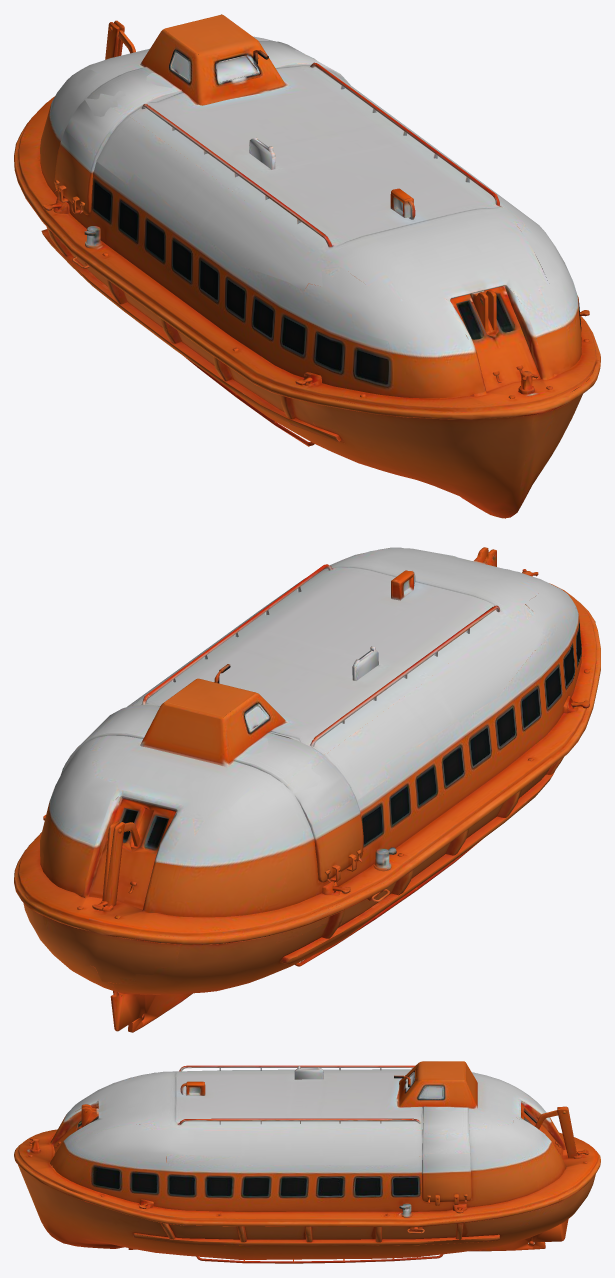
File: lifeboat.glb
3 views of the same model, one above another, from view 1: azimuth 30°, elevation 25°; view 2: azimuth 150°, elevation 25°; view 3: azimuth 270°, elevation 25° (orthographic). The views are drawn at different scales.
Visible parts, largest first — view 1: tripo_node_98a4e459-170e-46e3-bb6a-77a1a193b7a2; view 2: tripo_node_98a4e459-170e-46e3-bb6a-77a1a193b7a2; view 3: tripo_node_98a4e459-170e-46e3-bb6a-77a1a193b7a2.
Boxes of the visible parts, <box> form: tripo_node_98a4e459-170e-46e3-bb6a-77a1a193b7a2: <box>14,14,600,518</box>; tripo_node_98a4e459-170e-46e3-bb6a-77a1a193b7a2: <box>14,547,600,1032</box>; tripo_node_98a4e459-170e-46e3-bb6a-77a1a193b7a2: <box>14,1061,600,1263</box>.
Size of the model in its own units: 3.39 by 2.85 by 8.39.
1 material, 1 textured.
